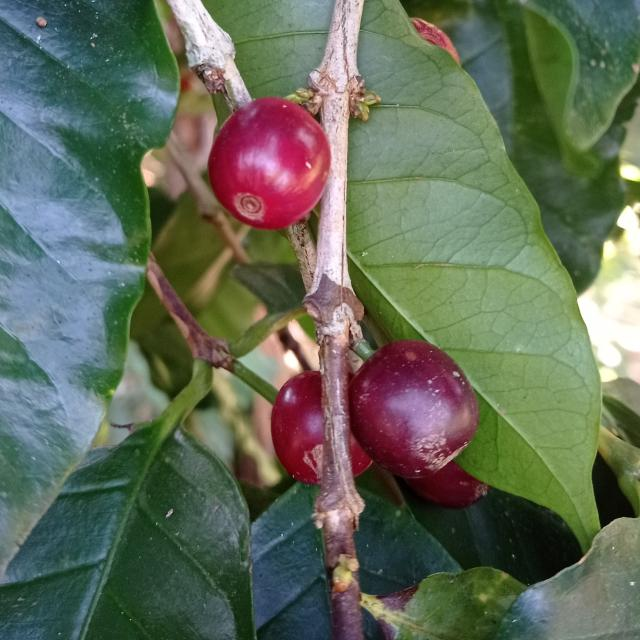red: (349, 340, 480, 479), (208, 96, 331, 229), (271, 371, 323, 485), (405, 461, 491, 509), (351, 436, 372, 476)
